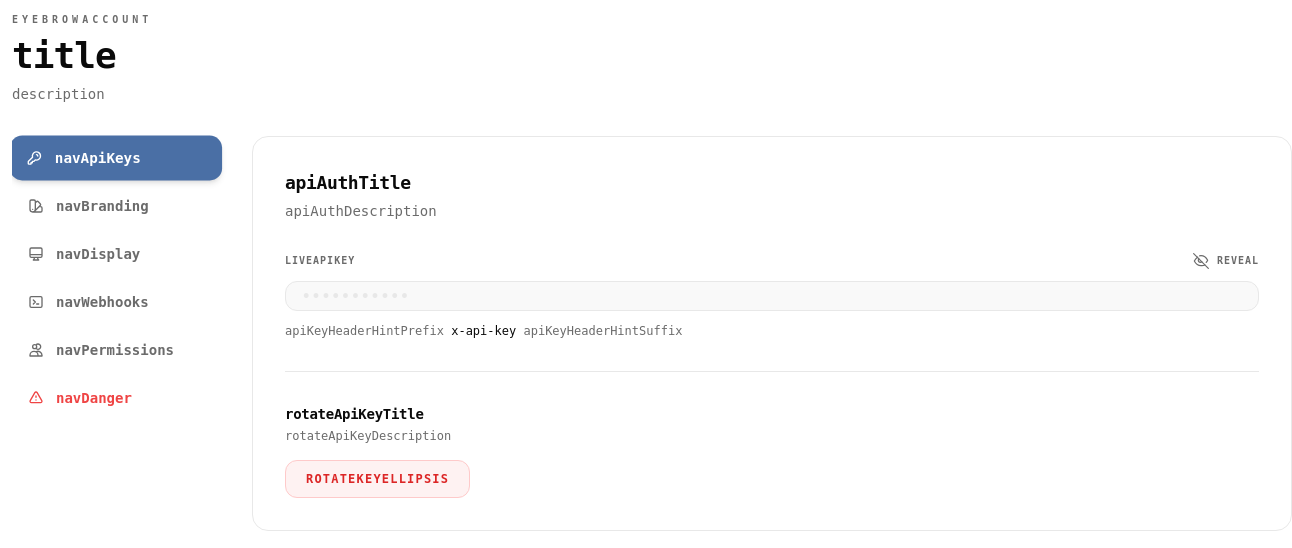
Scenario: SettingsWidget › API Keys tab › reveals API key on button click
The image size is (1292, 548).
Expected: the heading "apiAuthTitle" is shown, 285,172 -> 411,193
Click the button "reveal" at (1226,261), box 1193,253 -> 1259,269
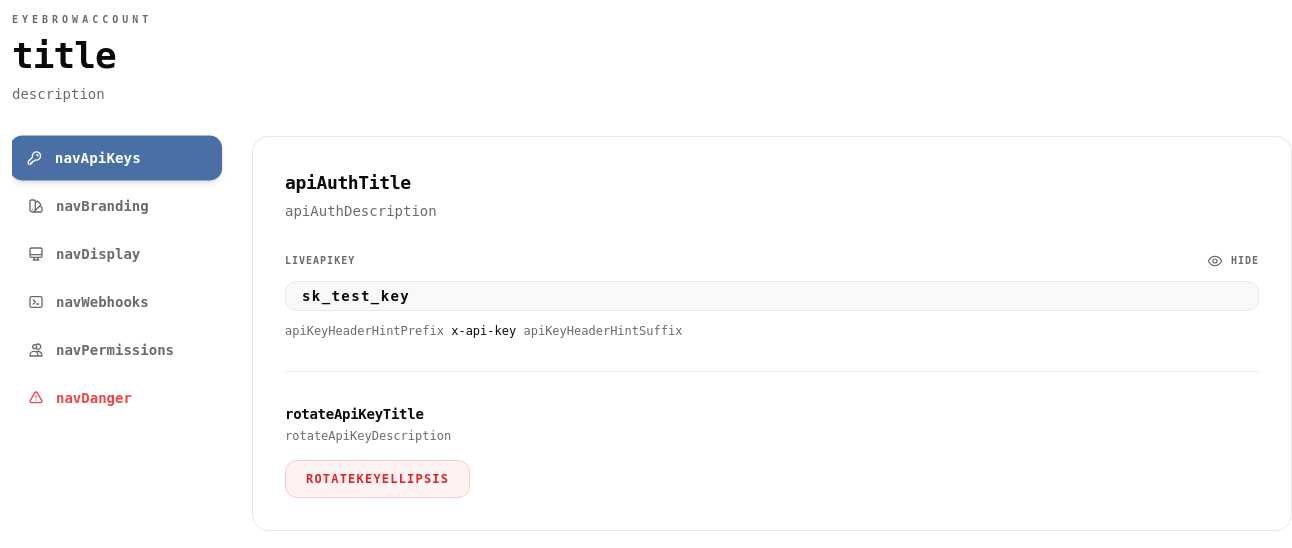
Expected: the button "hide" is shown, 1207,253 -> 1259,269
